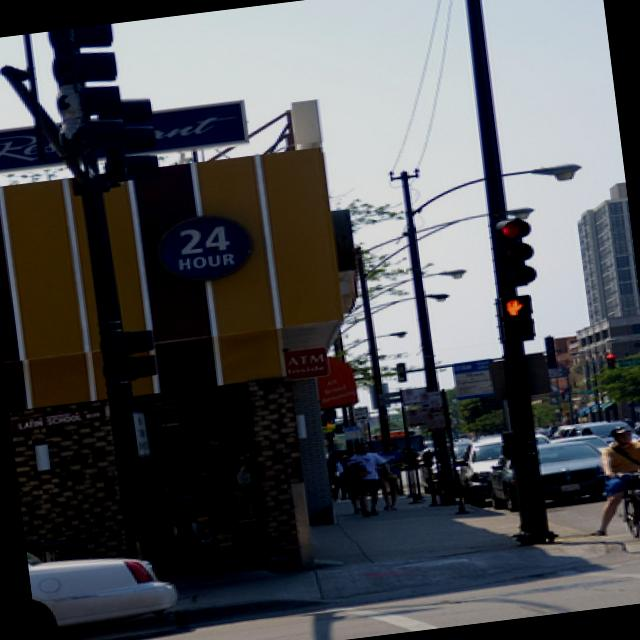Vehicle: (23, 515, 187, 640), (482, 436, 607, 514), (456, 432, 560, 508), (414, 438, 482, 494), (575, 416, 640, 447), (550, 423, 578, 441)
